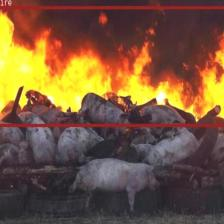fire: (0, 6, 224, 126)
